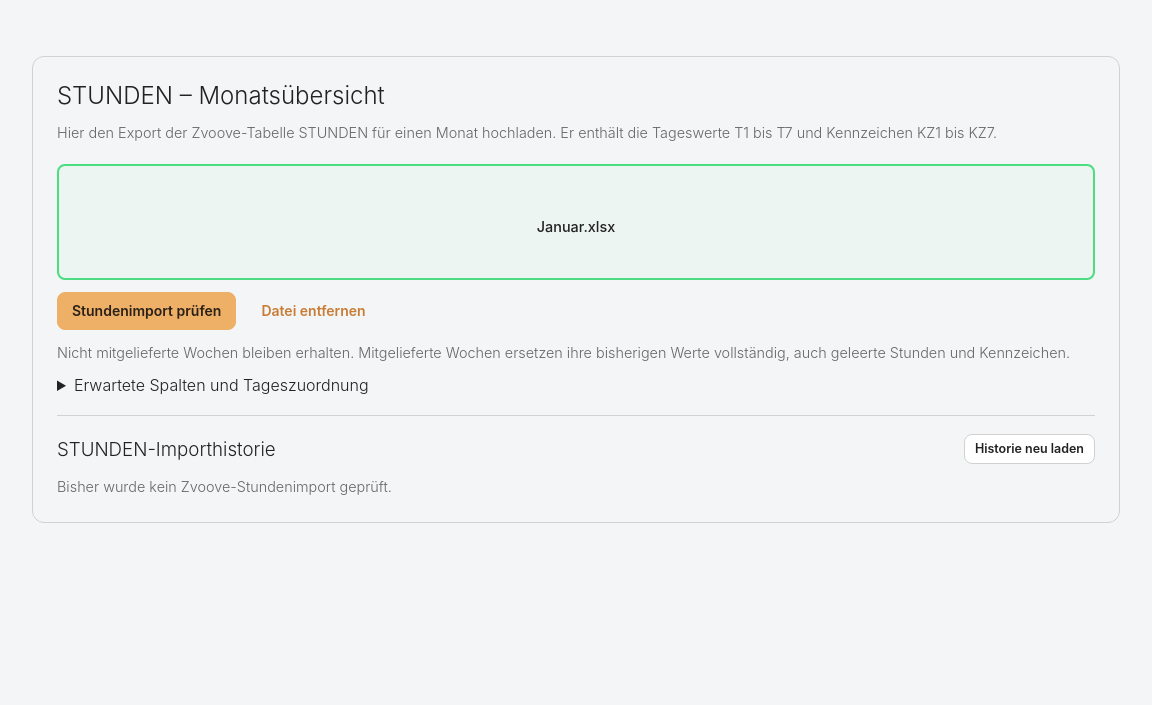
Test: Zvoove hours import › shows exact source headings, productive-hour semantics, validation errors and source rows
Click the button "Stundenimport prüfen" at (147, 311), box [57,292,236,330]
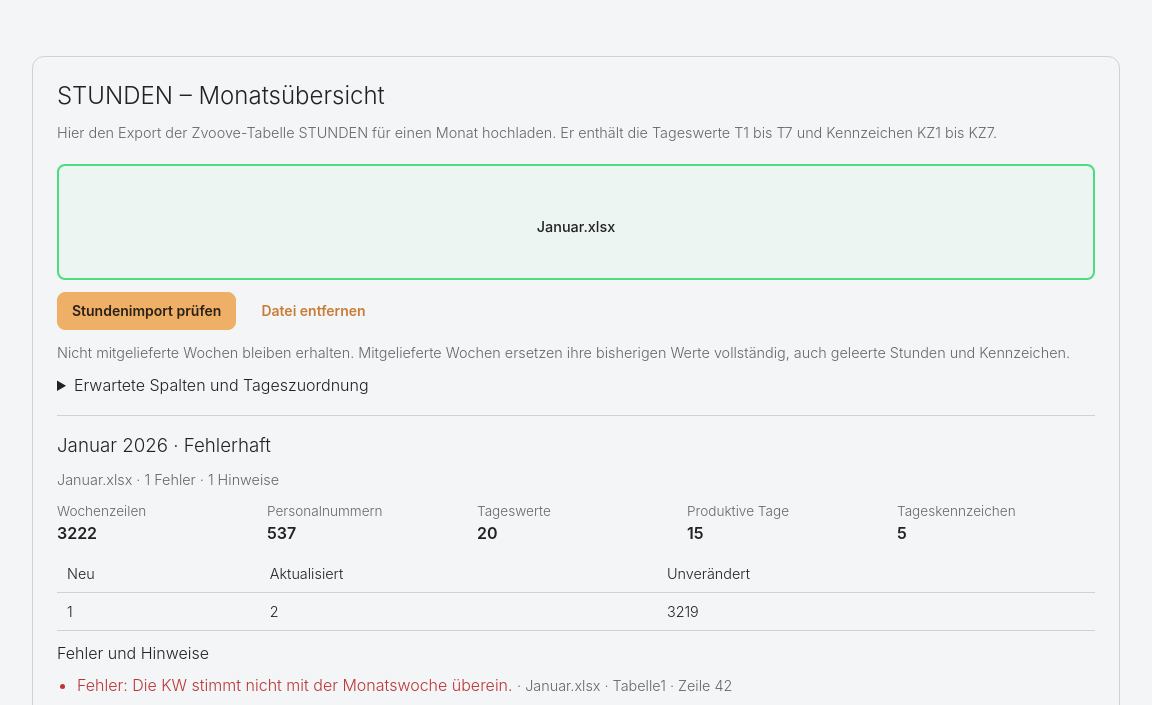
Check: the text "3222" is shown, box [57,523,97,543]
Check: the text "Wochenzeilen" is shown, box [57,503,146,519]
Check: the text "1 Fehler · 1 Hinweise" is shown, box [57,471,279,488]
